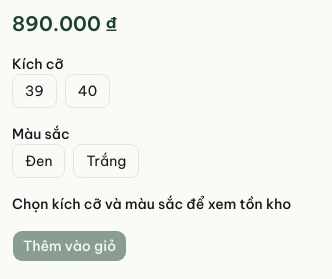
VariantSelector › chọn tổ hợp hết hàng (stock = 0) → hiện 'Hết hàng' và nút thêm giỏ bị disable
Click the radio button labelled "39" at x=34, y=91, box left=12, top=74, right=57, bottom=108
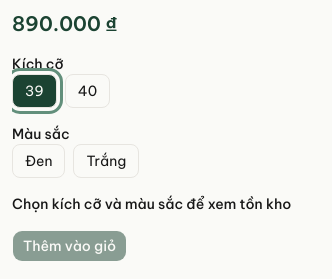
Click the radio button labelled "Trắng" at x=106, y=161, box left=74, top=144, right=139, bottom=178
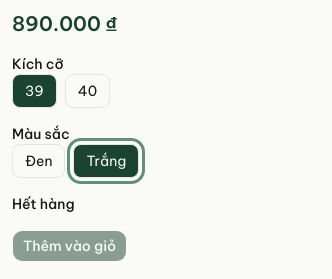
Expected: the button "Thêm vào giỏ" is disabled, left=12, top=230, right=127, bottom=262
Expected: the text "Hết hàng" is shown, left=12, top=195, right=74, bottom=213
